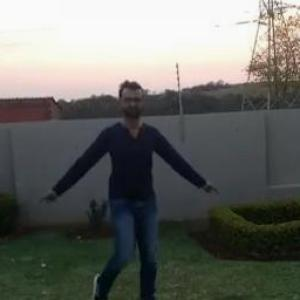land: (64, 91, 194, 282)
